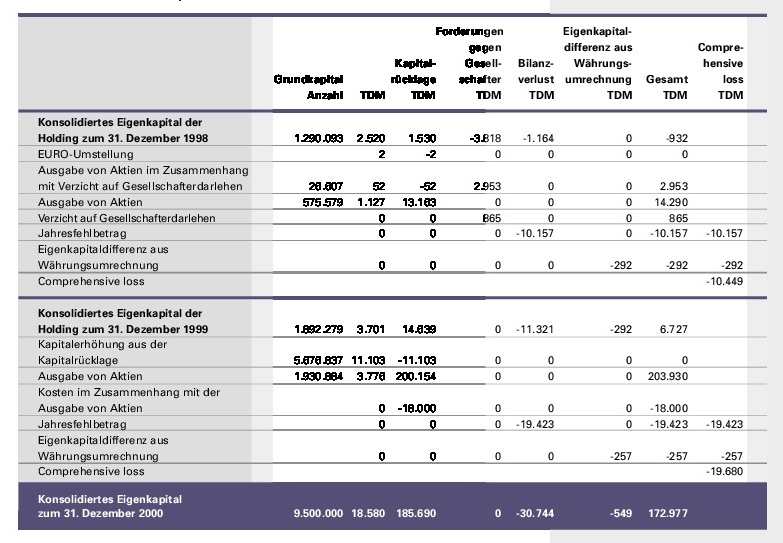table: (0, 0, 783, 543)
